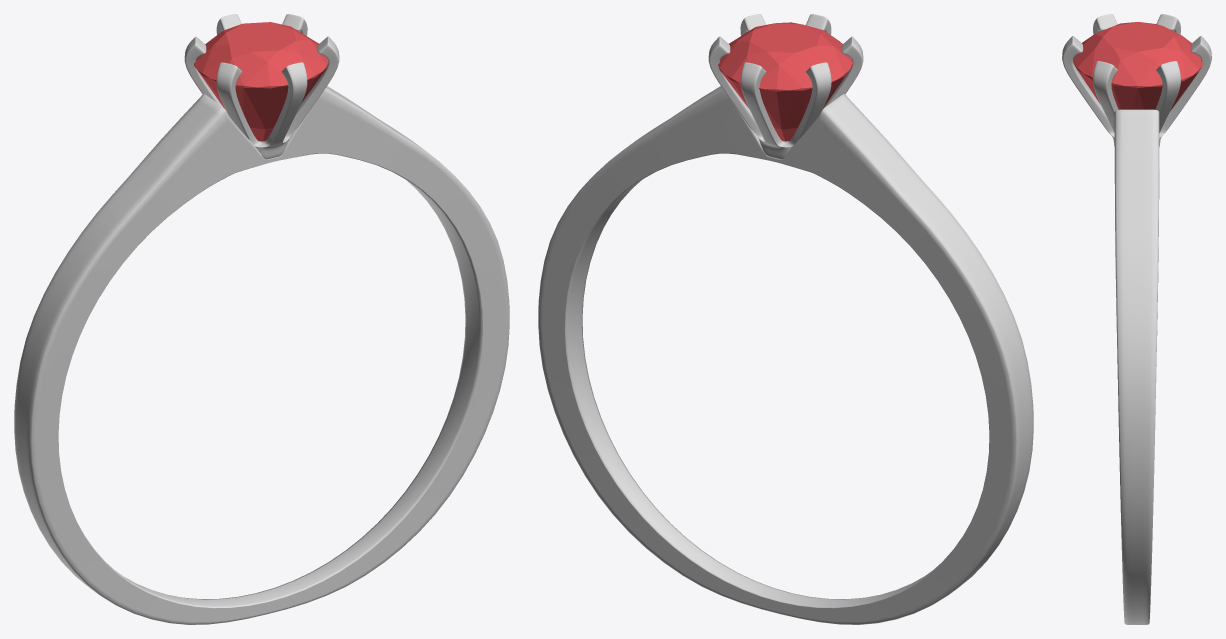
The model's file is 1744272760082_gyuru2 ezust-piros (1).glb.
3 renders of one model, left to right at view 1: azimuth 30°, elevation 25°; view 2: azimuth 150°, elevation 25°; view 3: azimuth 270°, elevation 25°, orthographic. The views are drawn at different scales.
Parts seen in each view (by area): view 1: node_3c45e496_8179_4aa6_8076_15acc9f23f34_mesh0, node_63c2521e_4d6f_418e_833f_8184712b430d_mesh0; view 2: node_3c45e496_8179_4aa6_8076_15acc9f23f34_mesh0, node_63c2521e_4d6f_418e_833f_8184712b430d_mesh0; view 3: node_3c45e496_8179_4aa6_8076_15acc9f23f34_mesh0, node_63c2521e_4d6f_418e_833f_8184712b430d_mesh0.
Boxes of the visible parts, bbox=[...] form: node_3c45e496_8179_4aa6_8076_15acc9f23f34_mesh0: bbox=[14, 14, 509, 624]; node_63c2521e_4d6f_418e_833f_8184712b430d_mesh0: bbox=[194, 22, 328, 141]; node_3c45e496_8179_4aa6_8076_15acc9f23f34_mesh0: bbox=[538, 14, 1033, 624]; node_63c2521e_4d6f_418e_833f_8184712b430d_mesh0: bbox=[718, 22, 852, 141]; node_3c45e496_8179_4aa6_8076_15acc9f23f34_mesh0: bbox=[1062, 14, 1211, 624]; node_63c2521e_4d6f_418e_833f_8184712b430d_mesh0: bbox=[1073, 22, 1203, 110].
Size of the model in its own units: 1.4 by 1.6 by 0.39.
